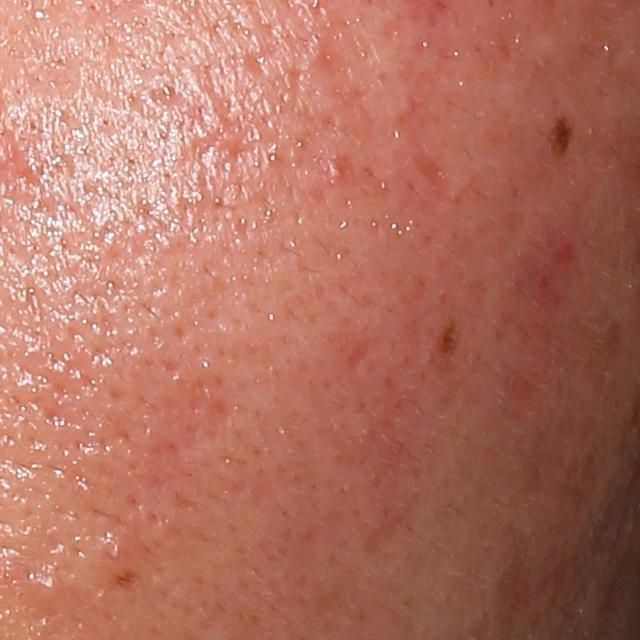atrophic_scar: (403, 146, 452, 190), (347, 340, 370, 371)
nevus: (545, 112, 577, 159), (435, 314, 461, 364)
